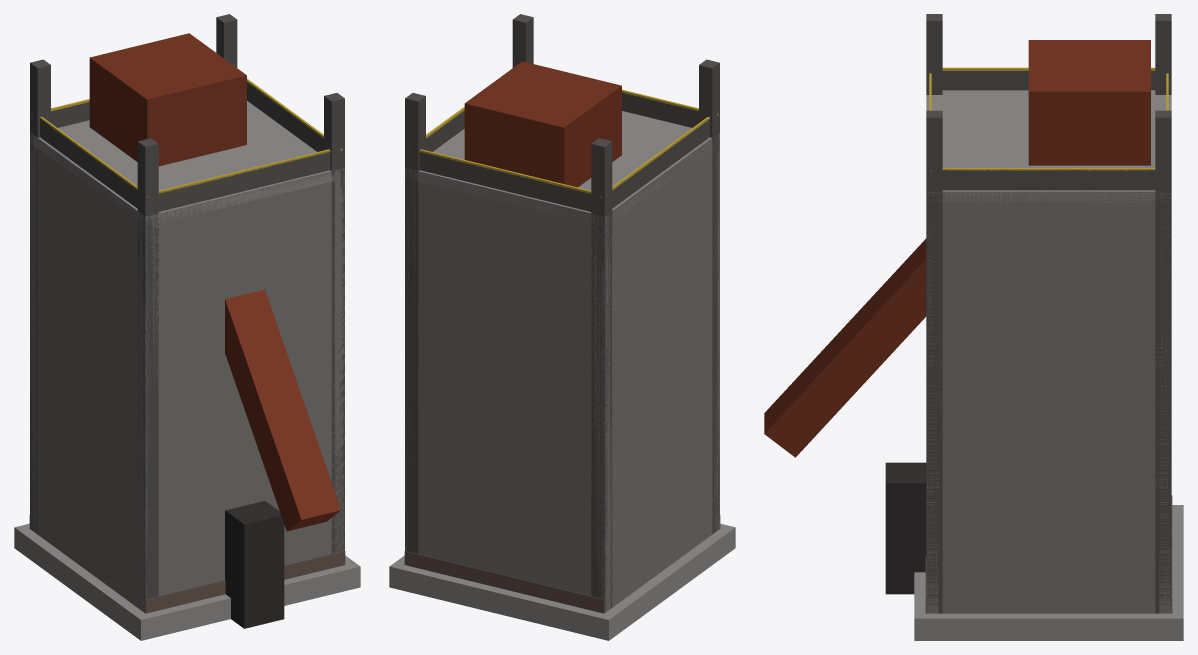
File: B_transfer_tower.glb
3 views of the same model, side by side, from view 1: azimuth 30°, elevation 25°; view 2: azimuth 150°, elevation 25°; view 3: azimuth 270°, elevation 25° (orthographic). The views are drawn at different scales.
Parts seen in each view (by area): view 1: Cube.007, Cube.005, Cube.015, Cube.016, Cube.010, Cube.018, Cube.002, Cube.017, Cube.003, Cube.008, MCDCX_h.007, Cube (+7 smaller); view 2: Cube.004, Cube.005, Cube.015, Cube.018, Cube, Cube.001, Cube.010, Cube.002, MCDCX_h.005, Cube.006, MCDCX_h.006, MCDCX_h.007 (+5 smaller); view 3: Cube.008, Cube.015, Cube.016, Cube.010, Cube.018, Cube.003, Cube.001, Cube.017, MCDCX_h.008, MCDCX_h.006, Cube.004, Cube.007 (+3 smaller).
Boxes of the visible parts, bbox=[...] form: Cube.007: bbox=[139, 171, 344, 612]; Cube.005: bbox=[30, 147, 155, 612]; Cube.015: bbox=[89, 33, 246, 166]; Cube.016: bbox=[225, 289, 340, 531]; Cube.010: bbox=[30, 101, 344, 225]; Cube.018: bbox=[14, 523, 360, 640]; Cube.002: bbox=[137, 138, 158, 607]; Cube.017: bbox=[225, 501, 284, 628]; Cube.003: bbox=[324, 93, 344, 553]; Cube.008: bbox=[335, 168, 344, 552]; MCDCX_h.007: bbox=[158, 151, 330, 211]; Cube: bbox=[30, 59, 50, 534]; Cube.004: bbox=[405, 168, 610, 612]; Cube.005: bbox=[594, 133, 719, 607]; Cube.015: bbox=[464, 61, 621, 187]; Cube.018: bbox=[389, 523, 735, 640]; Cube: bbox=[591, 138, 612, 612]; Cube.001: bbox=[405, 93, 425, 553]; Cube.010: bbox=[405, 111, 719, 224]; Cube.002: bbox=[699, 59, 719, 534]; MCDCX_h.005: bbox=[419, 151, 591, 211]; Cube.006: bbox=[404, 551, 604, 613]; MCDCX_h.006: bbox=[600, 119, 709, 215]; MCDCX_h.007: bbox=[622, 93, 718, 152]; Cube.008: bbox=[927, 191, 1171, 613]; Cube.015: bbox=[1028, 40, 1150, 165]; Cube.016: bbox=[764, 238, 926, 457]; Cube.010: bbox=[926, 90, 1171, 202]; Cube.018: bbox=[914, 505, 1183, 640]; Cube.003: bbox=[926, 110, 942, 613]; Cube.001: bbox=[1155, 110, 1171, 613]; Cube.017: bbox=[885, 462, 926, 594]; MCDCX_h.008: bbox=[942, 170, 1155, 190]; MCDCX_h.006: bbox=[942, 71, 1155, 90]; Cube.004: bbox=[1159, 192, 1171, 613]; Cube.007: bbox=[926, 192, 938, 613].
Bounding box in the file's own units: 6.6 × 14 × 10.27.
